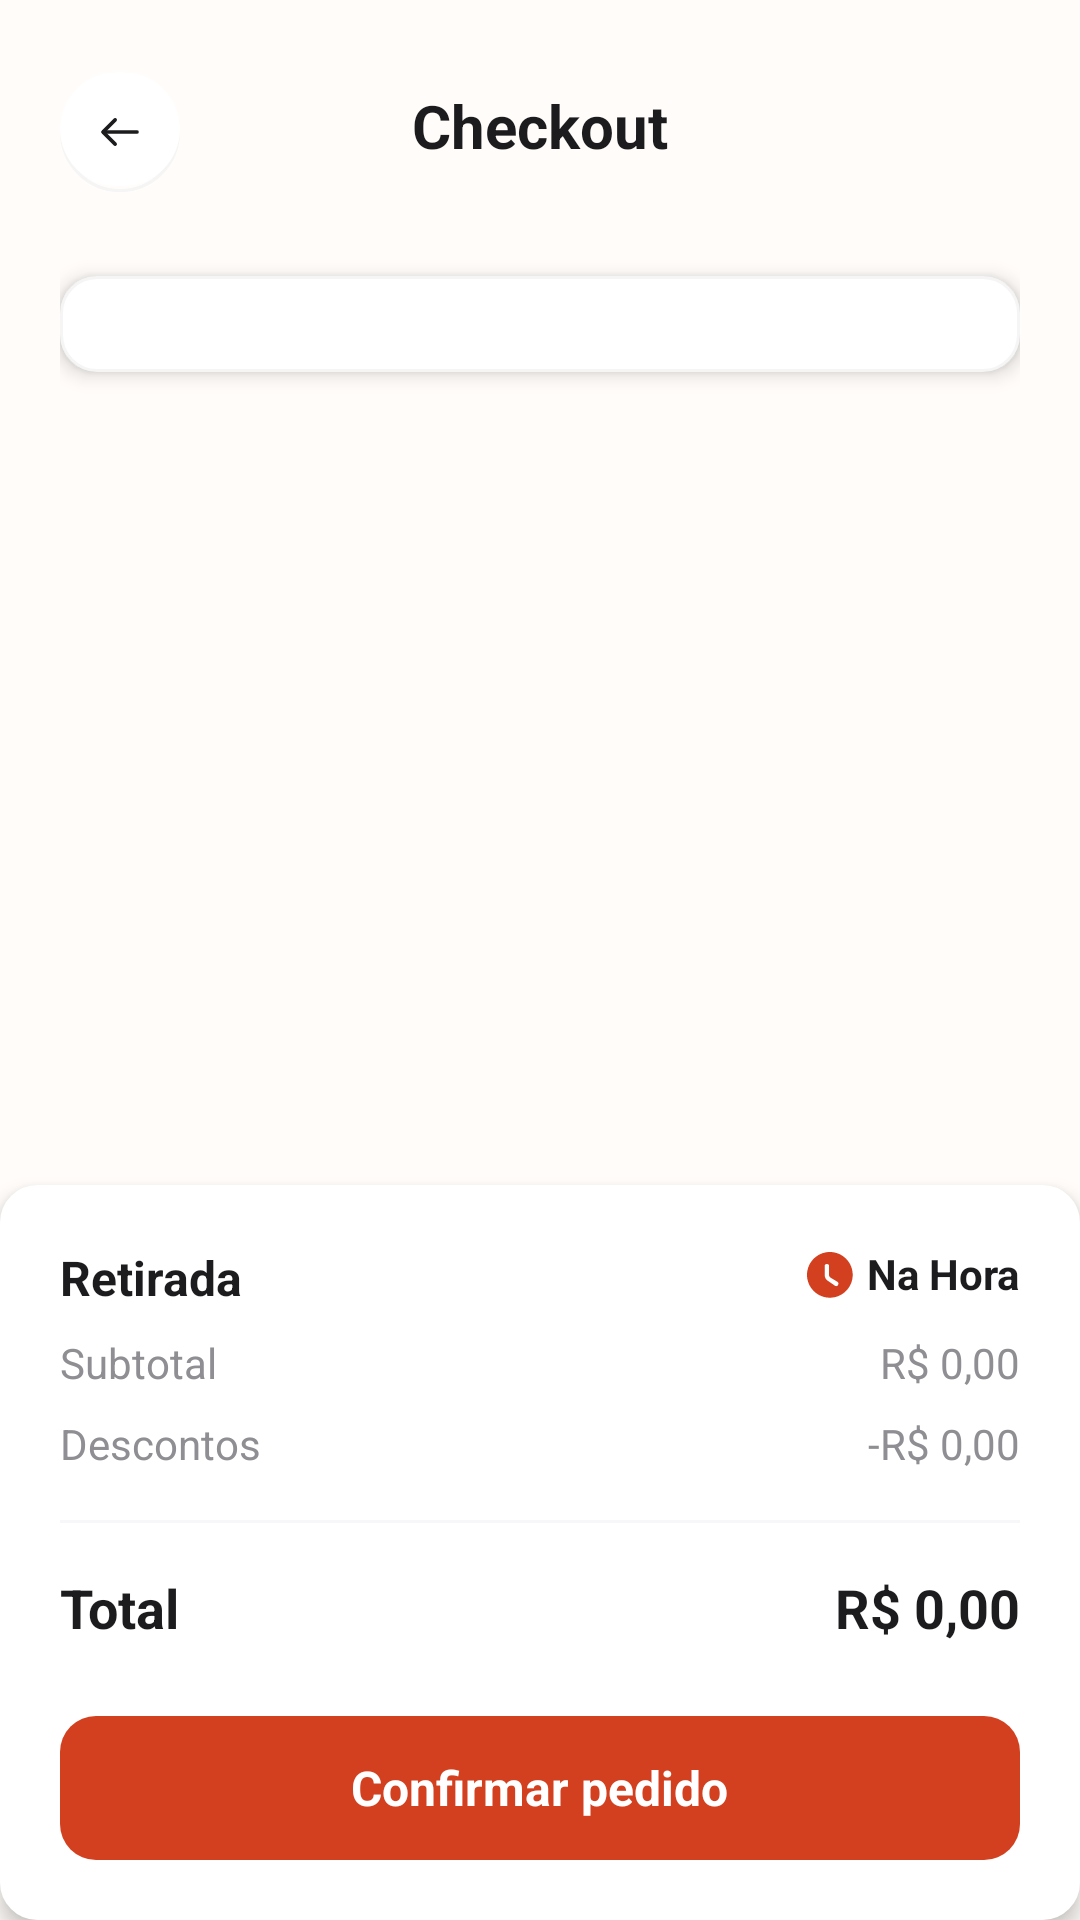

Where icons sit on this 1080×1920 app screen, as (x1, y1, x2, y2):
relogio: (807, 1252, 853, 1298)
voltar: (101, 118, 139, 146)
